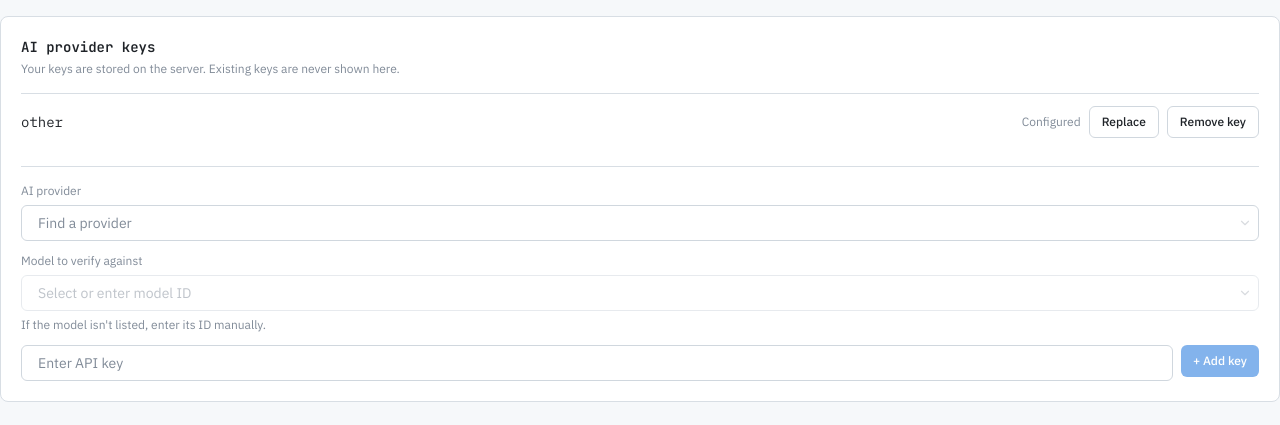
it: AiCredentials › keeps the configured key after rejected verification
Step 1. Click the button with aria-label "Replace other key" → (1124, 122), box [1089,106,1159,138]
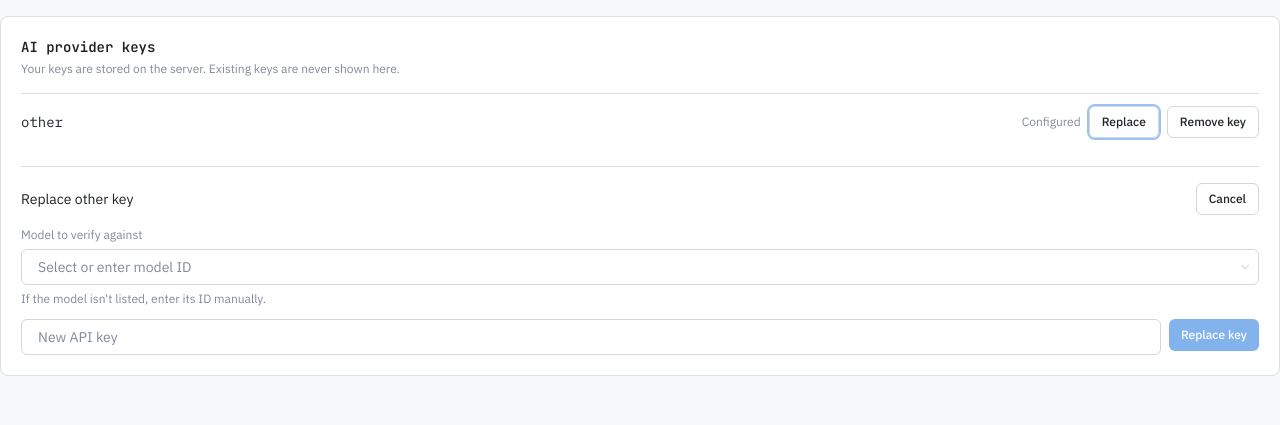
Step 2. Type "manual-model" into the dropdown named "Verification model" → (640, 267), box [21,249,1259,285]
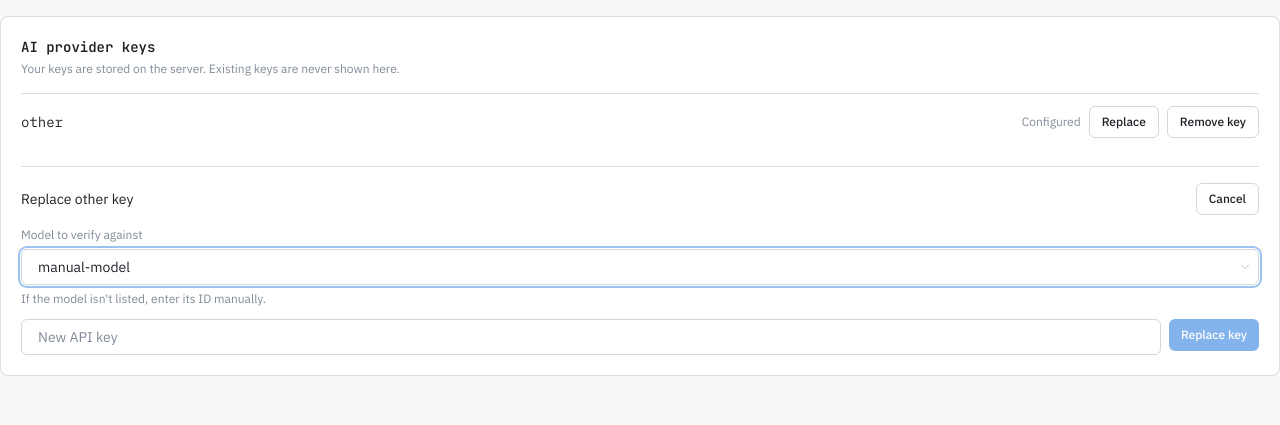
Step 3. Type "replacement" into the password field labelled "API key" → (591, 337), box [21,319,1161,355]
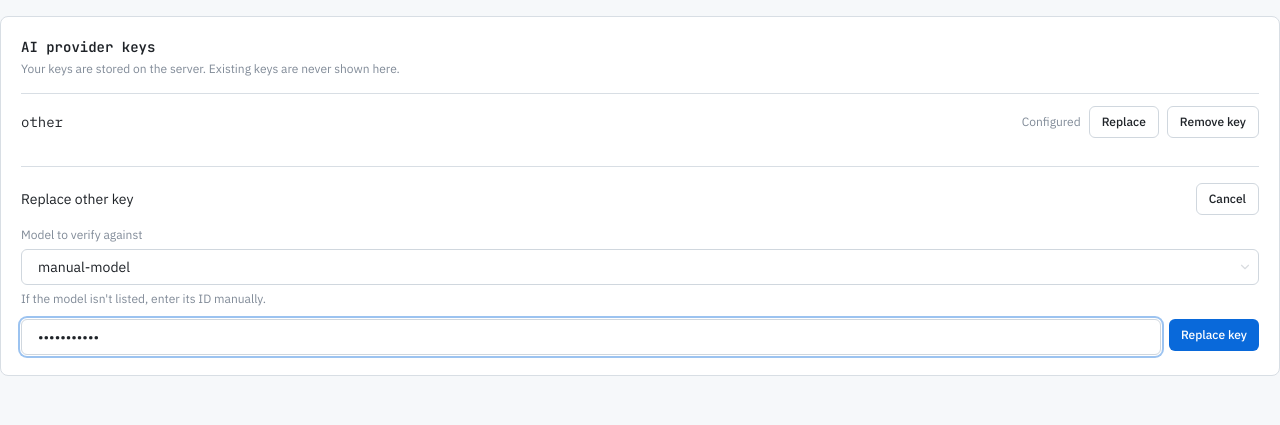
Step 4. Click the button "Replace key" → (1214, 335), box [1169,319,1259,351]
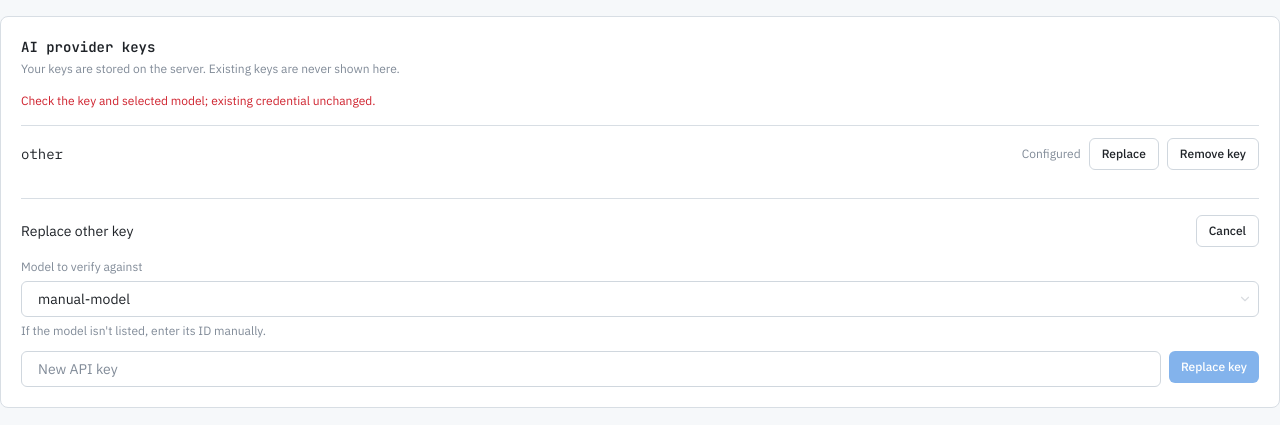
Expected: the text "Replace other key" is shown, [21,221,133,241]
Expected: the message shows "Check the key and selected model", [21,93,376,108]
Expected: the password field labelled "API key" is empty, [21,351,1161,387]
